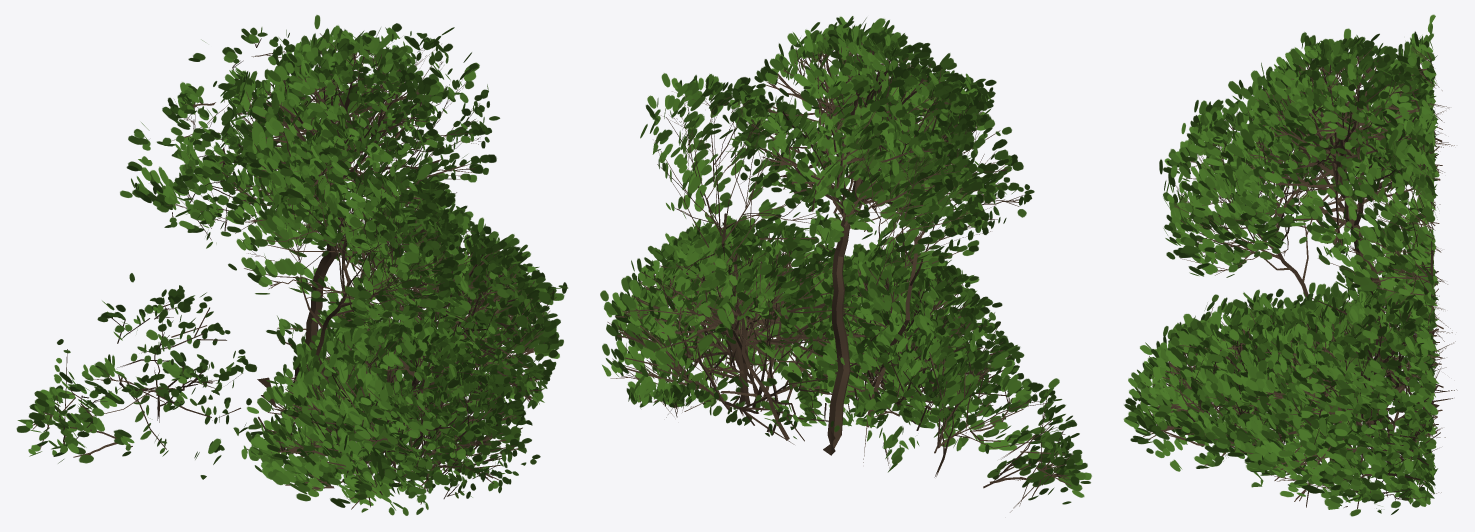
The picture shows the model from 3 angles, left to right: view 1: azimuth 30°, elevation 25°; view 2: azimuth 150°, elevation 25°; view 3: azimuth 270°, elevation 25°; orthographic projection. The views are drawn at different scales.
Visible parts, largest first — view 1: oak 01.001_trunk_Mat.001_0.238; view 2: oak 01.001_trunk_Mat.001_0.238; view 3: oak 01.001_trunk_Mat.001_0.238.
Boxes of the visible parts, box(x1,y1,x2,y2) form: oak 01.001_trunk_Mat.001_0.238: box(16, 15, 568, 515); oak 01.001_trunk_Mat.001_0.238: box(600, 16, 1091, 512); oak 01.001_trunk_Mat.001_0.238: box(1123, 14, 1457, 516).
Bounding box in the file's own units: 3.91 × 3.14 × 2.38.
Materials: 2 (1 with a texture image).
